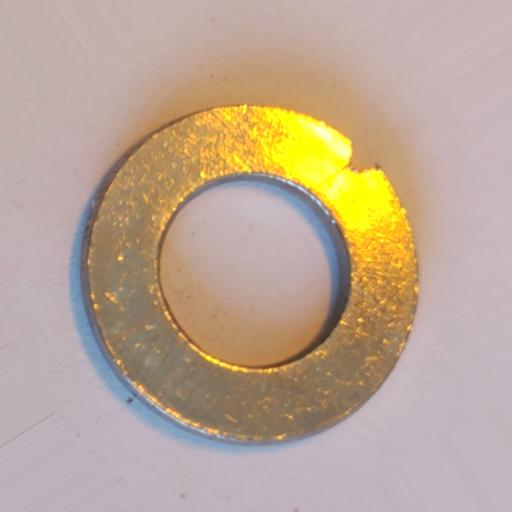burr: (345, 141, 379, 177)
